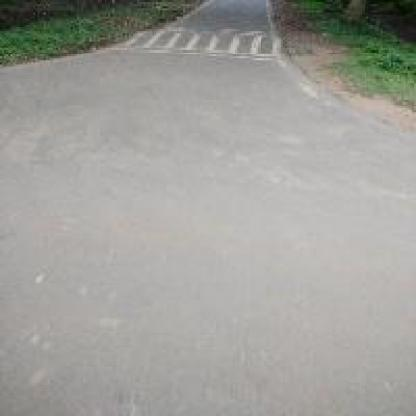Speed Bump: (127, 23, 268, 62)
